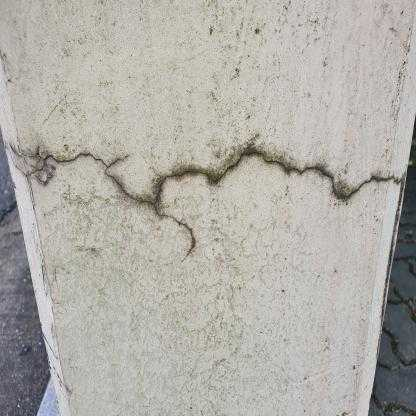crack: (33, 147, 402, 256)
